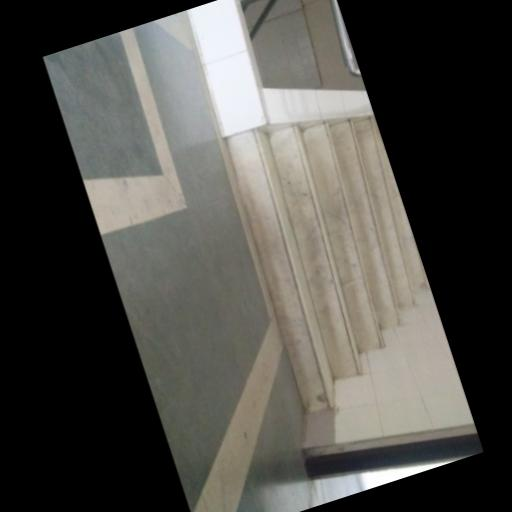stairs: (227, 116, 427, 411)
